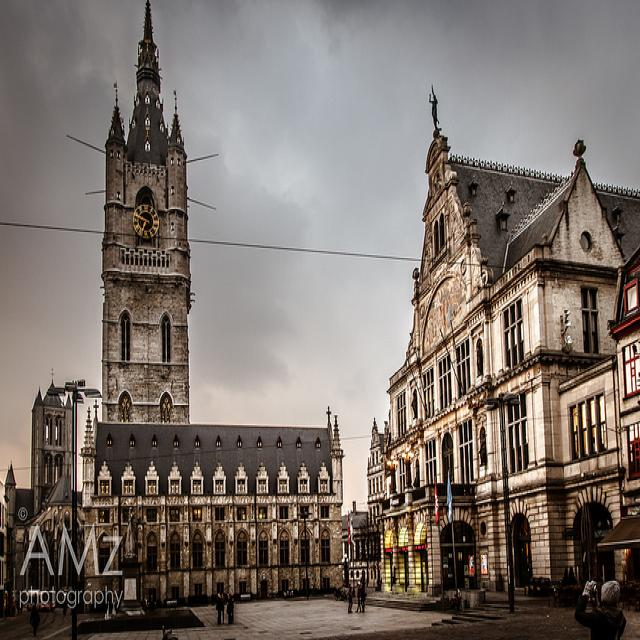motor: (448, 594, 462, 611), (352, 586, 356, 598)
